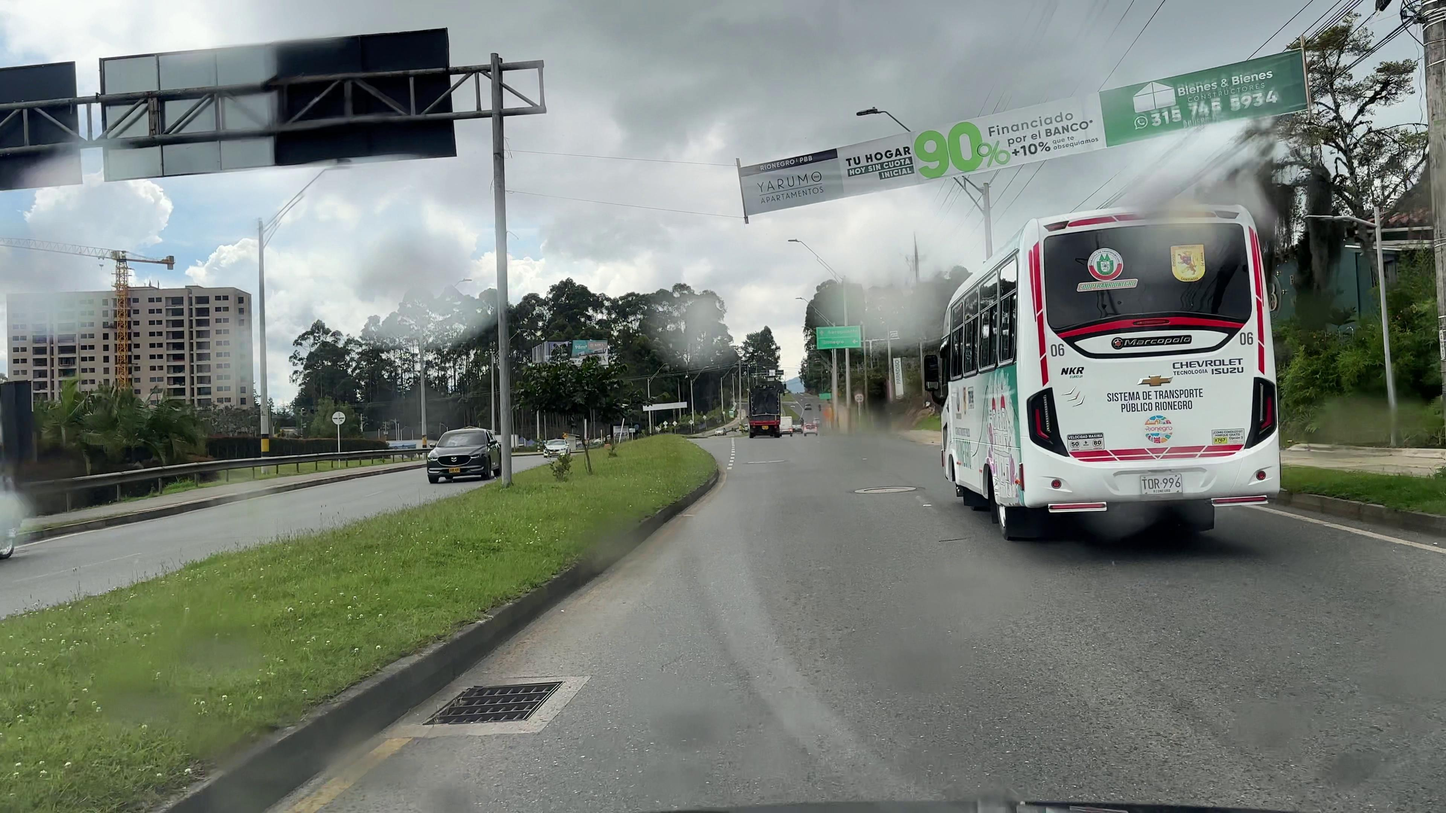registro: (864, 488, 907, 492)
rejilla: (424, 681, 561, 725)
